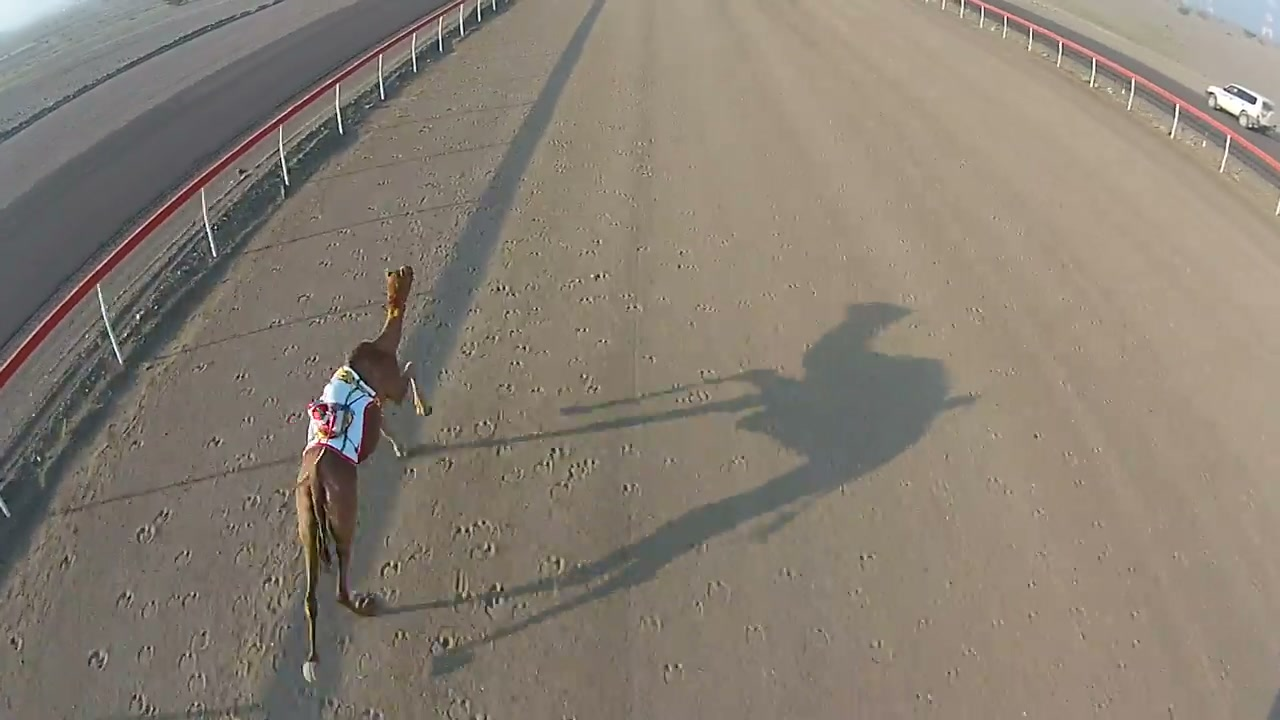animal_footprint: (357, 75, 655, 677)
